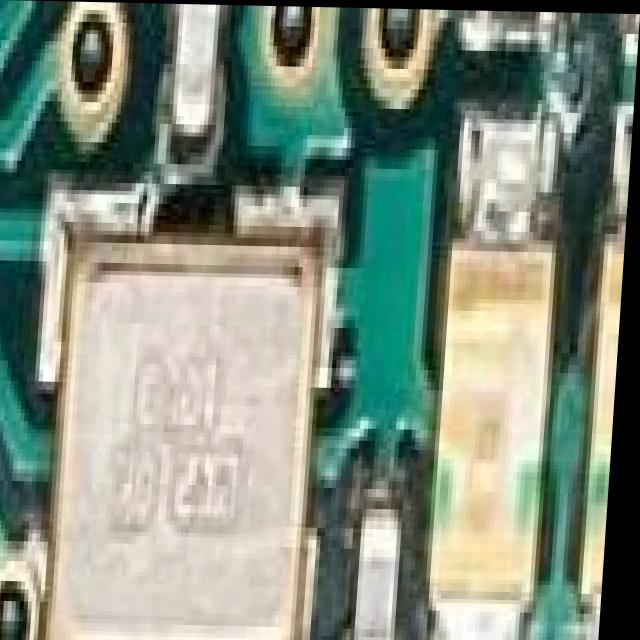LED: (0, 0, 640, 640), (422, 172, 559, 640), (562, 202, 630, 640)
capacitor: (354, 475, 431, 640), (168, 3, 240, 160)
clock: (46, 177, 355, 640)
resistor: (456, 8, 556, 78), (613, 11, 640, 59)
